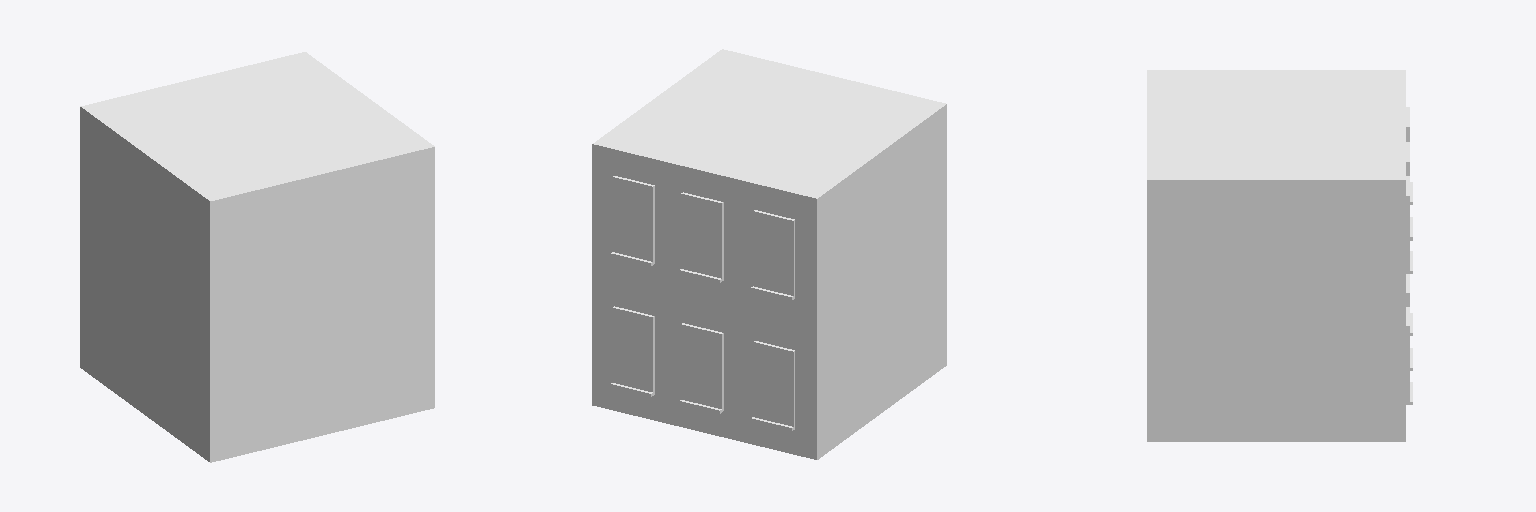
Rendered from ApartmentMid.obj.
The picture shows the model from 3 angles: view 1: azimuth 30°, elevation 25°; view 2: azimuth 150°, elevation 25°; view 3: azimuth 270°, elevation 25°; orthographic projection.
Visible parts, largest first — view 1: ApartmentMid; view 2: ApartmentMid; view 3: ApartmentMid.
Boxes of the visible parts, x1=… form: ApartmentMid: x1=80, y1=52, x2=434, y2=462; ApartmentMid: x1=592, y1=49, x2=946, y2=459; ApartmentMid: x1=1147, y1=70, x2=1412, y2=441.
Size of the model in its own units: 72 by 80 by 74.